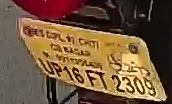0: (132, 76, 146, 95)
1: (64, 65, 73, 83)
2: (109, 72, 125, 97)
3: (122, 75, 135, 95)
6: (71, 64, 85, 85)
9: (143, 77, 156, 98)
F: (88, 68, 96, 88)
P: (52, 61, 63, 77)
T: (96, 69, 109, 91)
U: (40, 57, 55, 77)
